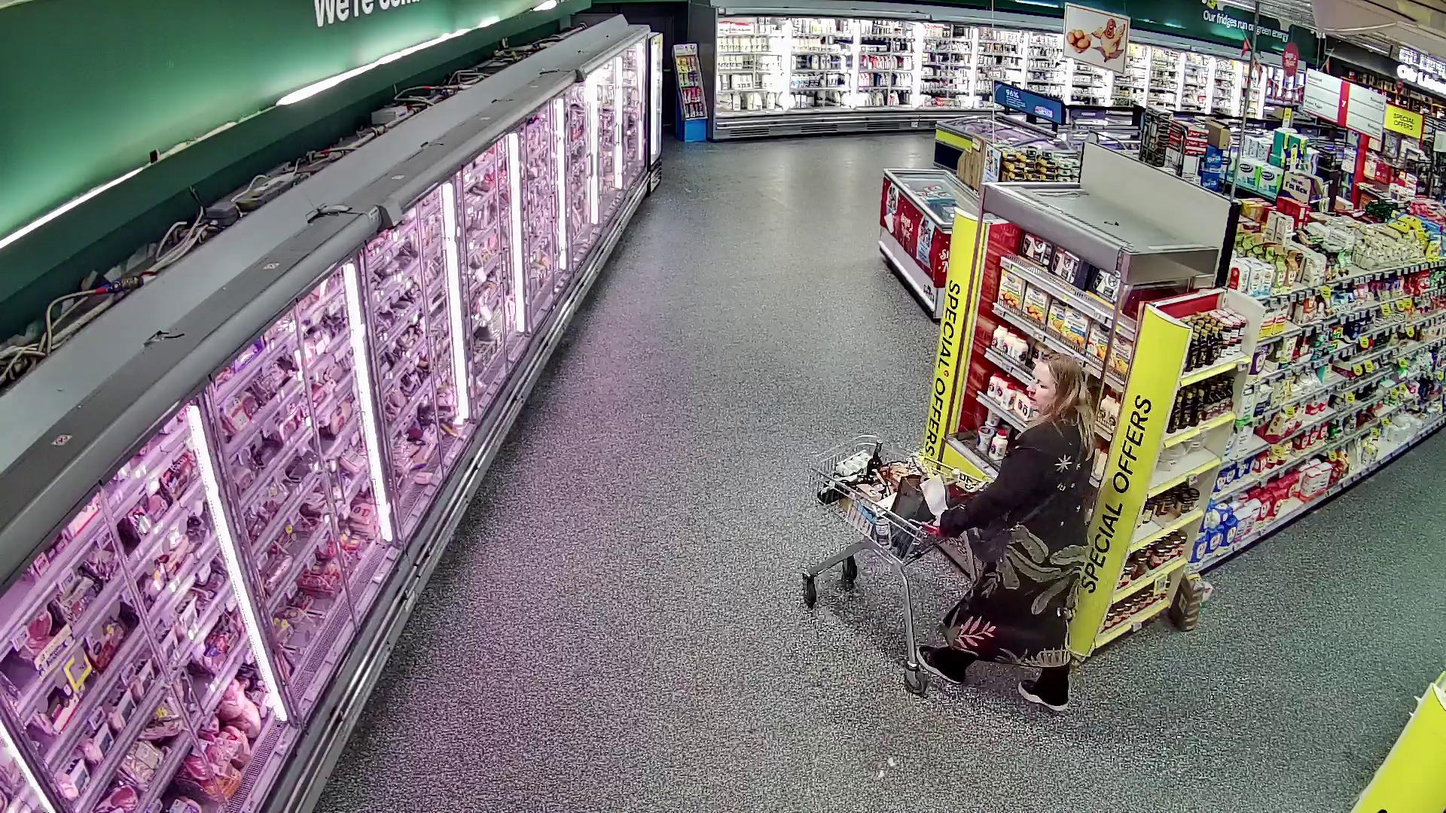filled-trolly: (802, 433, 987, 694)
person: (918, 351, 1096, 711)
person-with-filled-basket-trolly: (802, 350, 1095, 715)
